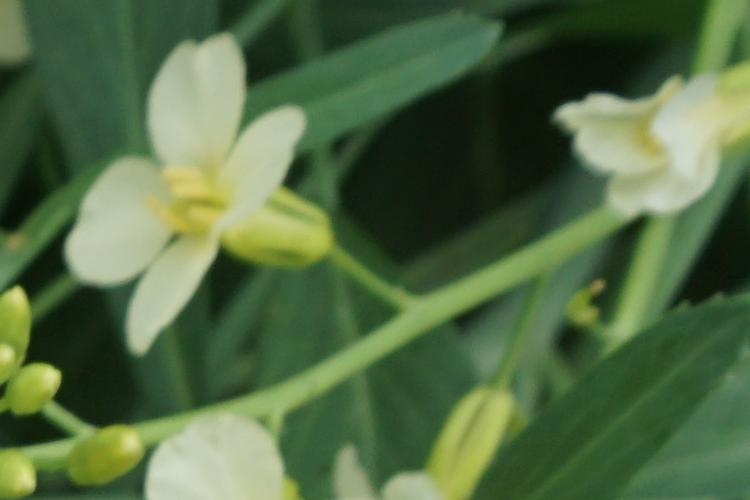bud: (73, 419, 143, 487), (3, 360, 61, 412), (2, 286, 42, 360), (2, 440, 45, 498)
white: (90, 48, 343, 337), (566, 59, 749, 225), (144, 412, 299, 500)
